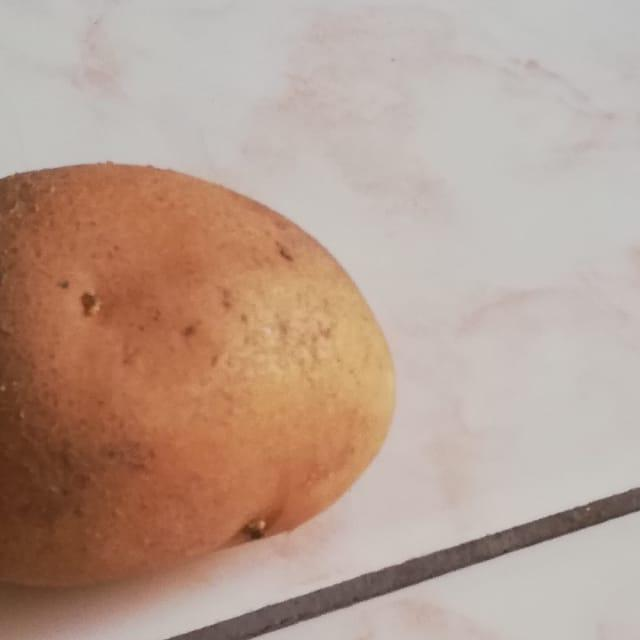potato: (0, 139, 415, 602)
